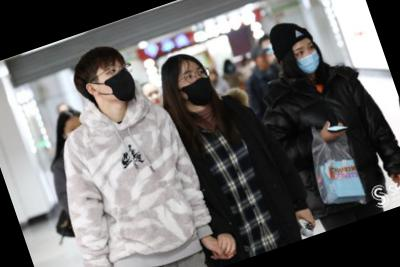with_mask: (93, 59, 142, 109), (176, 63, 218, 112), (293, 39, 324, 77)
without_mask: (145, 88, 168, 113)
